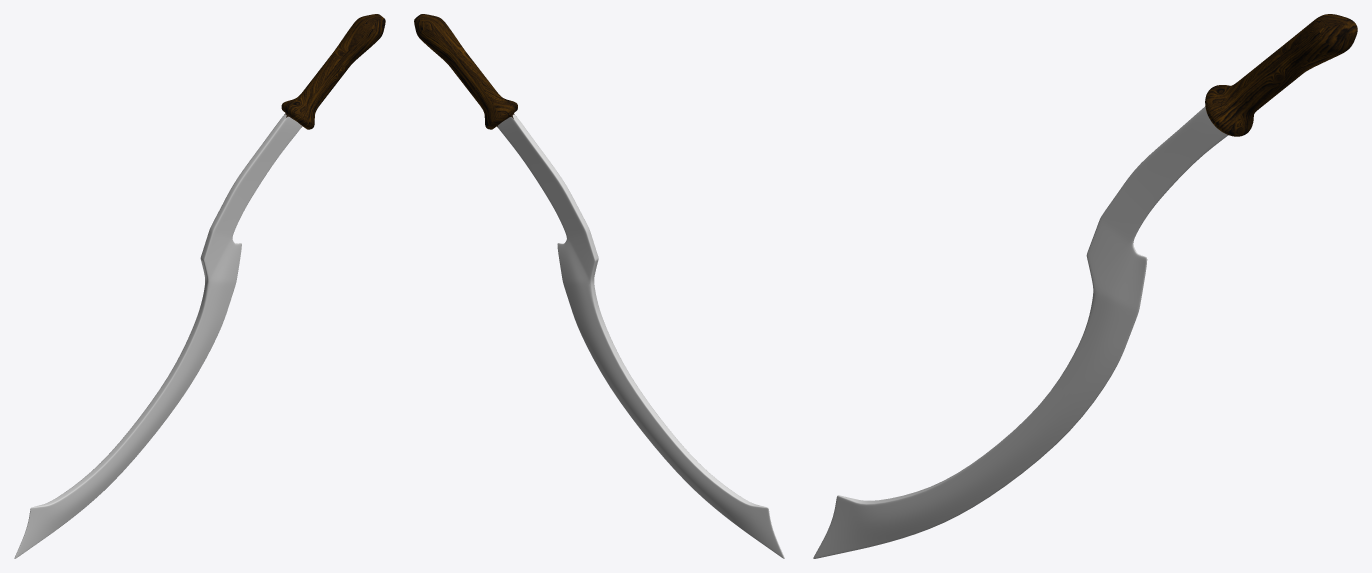
Rendered from FINAL_Sword.fbx.
3 renders of one model, left to right at view 1: azimuth 30°, elevation 25°; view 2: azimuth 150°, elevation 25°; view 3: azimuth 330°, elevation 25°, orthographic. The views are drawn at different scales.
Visible parts, largest first — view 1: Khopesh:Khopesh; view 2: Khopesh:Khopesh; view 3: Khopesh:Khopesh.
Boxes of the visible parts, x1,y1,x2,y2 form: Khopesh:Khopesh: (14,14,385,558); Khopesh:Khopesh: (414,14,784,558); Khopesh:Khopesh: (813,14,1357,558).
Bounding box in the file's own units: 0.7273 × 0.8568 × 0.067.
Materials: 2 (1 with a texture image).
